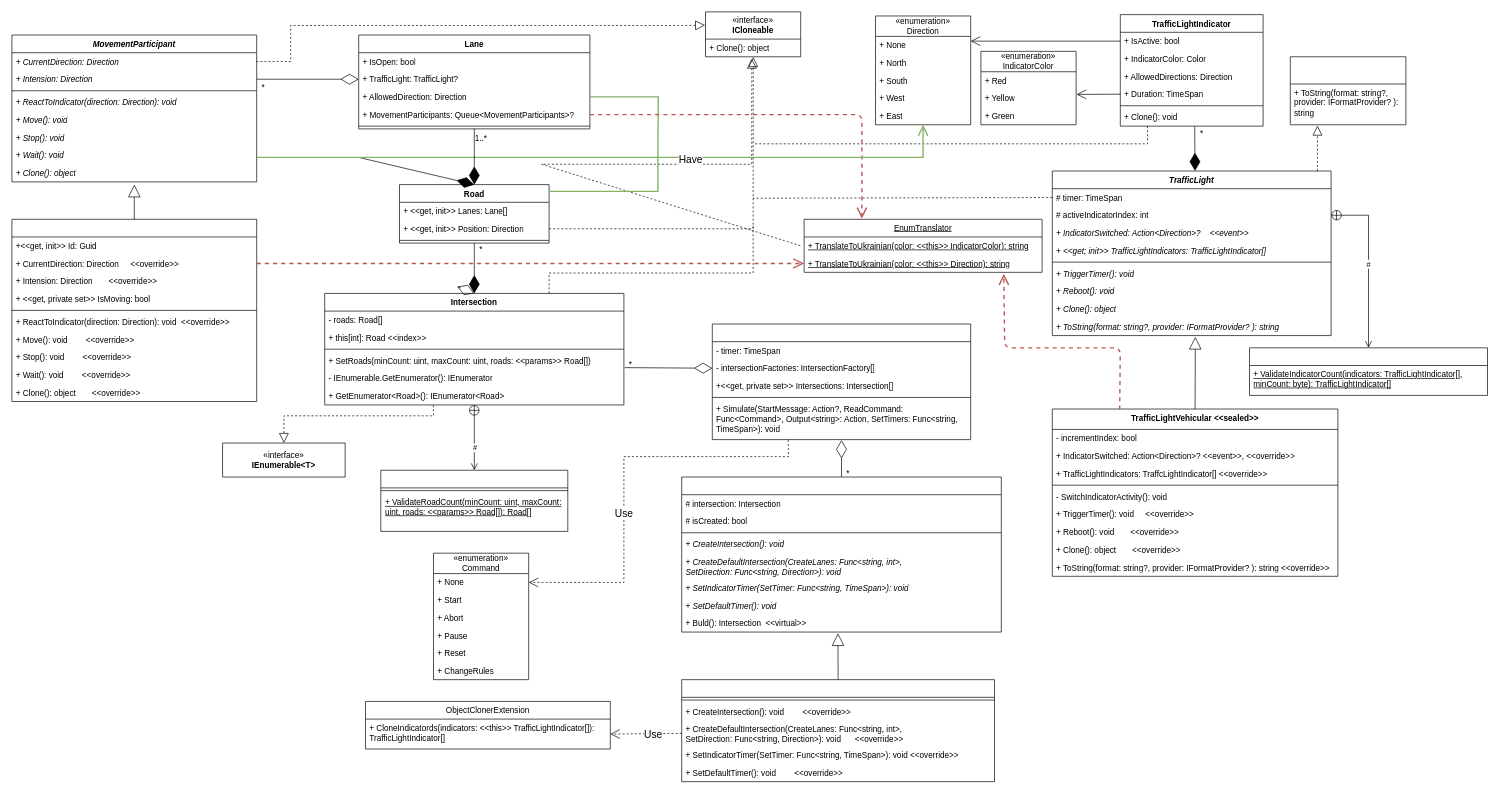
Image size: 1499x796. Some labels were removed from this diagram. The shapes that lost their labels are listed below. From the top down, each one's box as (x1, y1, x2, y2) in pixels, then its label:
(1290, 56, 1406, 125): «interface» IFormattable
(11, 219, 257, 402): MovementParticipantVehicular
(712, 323, 971, 440): CrossingRoadSimulator
(1249, 347, 1488, 395): IndicatorVerifier
(380, 470, 568, 531): Verifier
(681, 476, 1001, 632): IntersectionFactory
(681, 679, 995, 782): IntersectionFactoryVehicular
